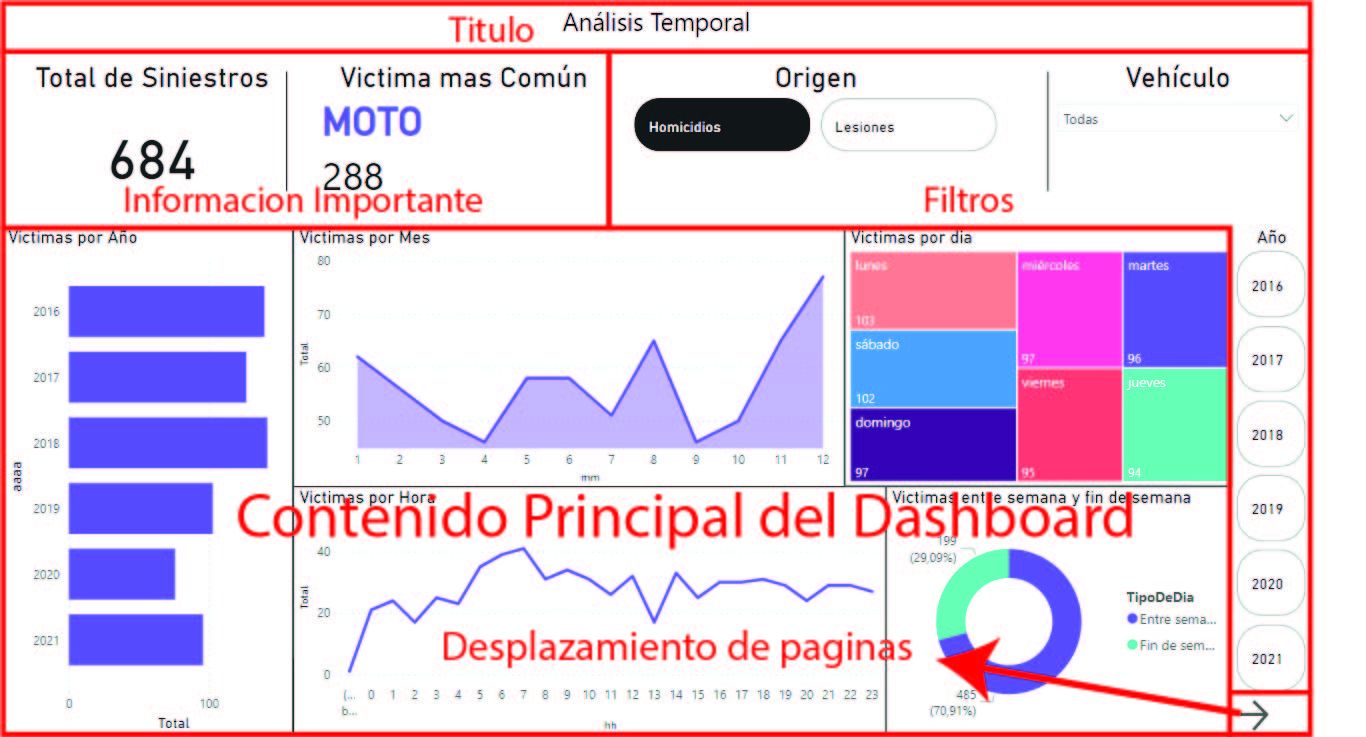

The page's visual inventory and layout, read from the dashboard file:
{"tool":"powerbi","page":{"name":"Página 1","canvas":[1280,720],"ordinal":0},"visuals":[{"type":"shape","box":[0,0,1280,720],"z":0},{"type":"areaChart","title":"Victimas por Mes","fields":{"Category":["homicidiosylesiones.mm"],"Y":["homicidiosylesiones.Total Victimas"]},"box":[284.8,221.3,539.1,255.5],"z":1000},{"type":"lineChart","title":"Victimas por Hora","fields":{"Category":["homicidiosylesiones.hh"],"Y":["homicidiosylesiones.Total Victimas"]},"box":[284.3,475.7,580,244.3],"z":2000},{"type":"advancedSlicerVisual","title":"Año","fields":{"Values":["homicidiosylesiones.aaaa"]},"box":[1202.5,221.2,77.5,460],"z":3000},{"type":"clusteredBarChart","title":"Victimas por Año","fields":{"Y":["homicidiosylesiones.Total Victimas"],"Category":["homicidiosylesiones.aaaa"]},"box":[0,221.3,284.8,498.7],"z":4000},{"type":"donutChart","title":"Victimas entre semana y fin de semana","fields":{"Category":["homicidiosylesiones.TipoDeDia"],"Y":["homicidiosylesiones.Total Victimas"]},"box":[864.3,475.7,338.6,244.3],"z":5000},{"type":"actionButton","box":[1202.9,680,77.1,40],"z":6000},{"type":"treemap","title":"Victimas por dia","fields":{"Group":["homicidiosylesiones.Dias"],"Values":["homicidiosylesiones.Total"]},"box":[823.9,221.3,378.9,254.3],"z":7000},{"type":"textbox","box":[0,0,1280,60],"z":8000},{"type":"card","title":"Total de Siniestros","fields":{"Values":["homicidiosylesiones.Total Victimas"]},"box":[14.3,60,264.3,147.1],"z":9000},{"type":"advancedSlicerVisual","title":"Origen","fields":{"Values":["homicidiosylesiones.origen"]},"box":[613.8,60,365,93.8],"z":10000},{"type":"slicer","title":"Vehículo","fields":{"Values":["homicidiosylesiones.victima"]},"box":[1022.5,60,256.2,93.8],"z":11000},{"type":"multiRowCard","title":"Victima mas Común","fields":{"Values":["homicidiosylesiones.Victima_Mas_Comun","homicidiosylesiones.Total_Victima_Mas_Comun"]},"box":[308.6,60,287.1,151.4],"z":12000},{"type":"image","box":[470,63.3,251.4,130],"z":13000},{"type":"image","box":[152.9,63.3,251.4,130],"z":14000},{"type":"image","box":[897.1,63.3,251.4,130],"z":15000}]}

Visuals, with their boxes on the page's 1280x720 design canvas (x1, y1, x2, y2). These are canvas units, not pixel positions in the 1366x737 screenshot, which may show the page scaled, cropped or inside an application window:
shape: 0,0,1280,720
"Victimas por Mes" areaChart: 285,221,824,477
"Victimas por Hora" lineChart: 284,476,864,720
"Año" advancedSlicerVisual: 1202,221,1280,681
"Victimas por Año" clusteredBarChart: 0,221,285,720
"Victimas entre semana y fin de semana" donutChart: 864,476,1203,720
actionButton: 1203,680,1280,720
"Victimas por dia" treemap: 824,221,1203,476
textbox: 0,0,1280,60
"Total de Siniestros" card: 14,60,279,207
"Origen" advancedSlicerVisual: 614,60,979,154
"Vehículo" slicer: 1022,60,1279,154
"Victima mas Común" multiRowCard: 309,60,596,211
image: 470,63,721,193
image: 153,63,404,193
image: 897,63,1148,193
